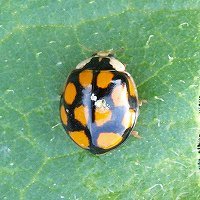Rash: (59, 52, 138, 153)
